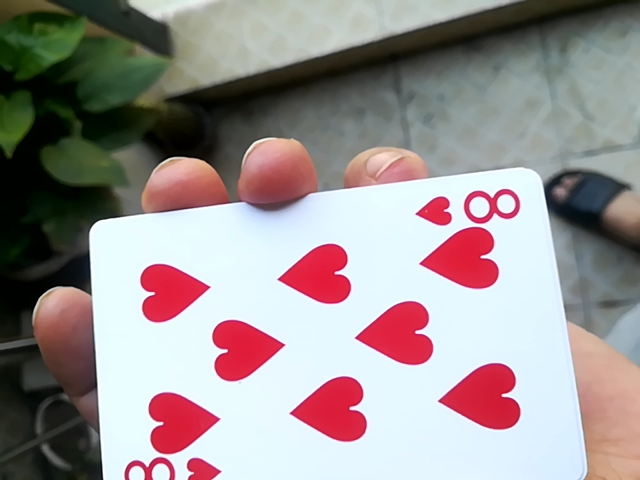hx 8: (81, 164, 584, 474)
